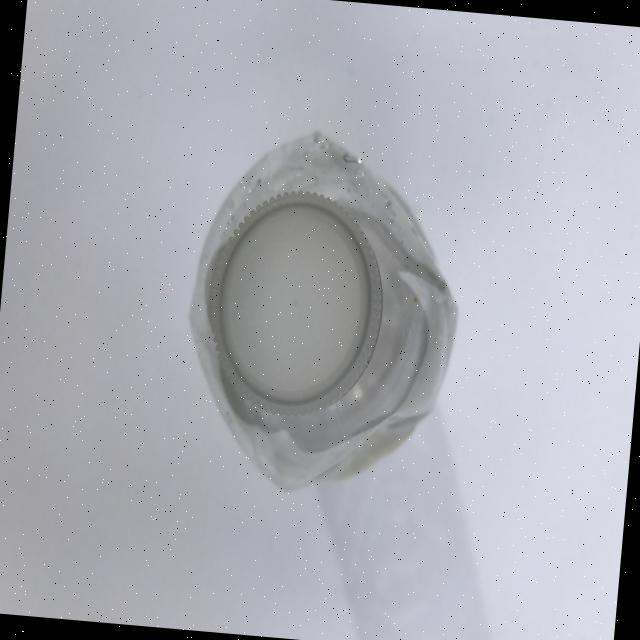plastic: (173, 118, 473, 506)
